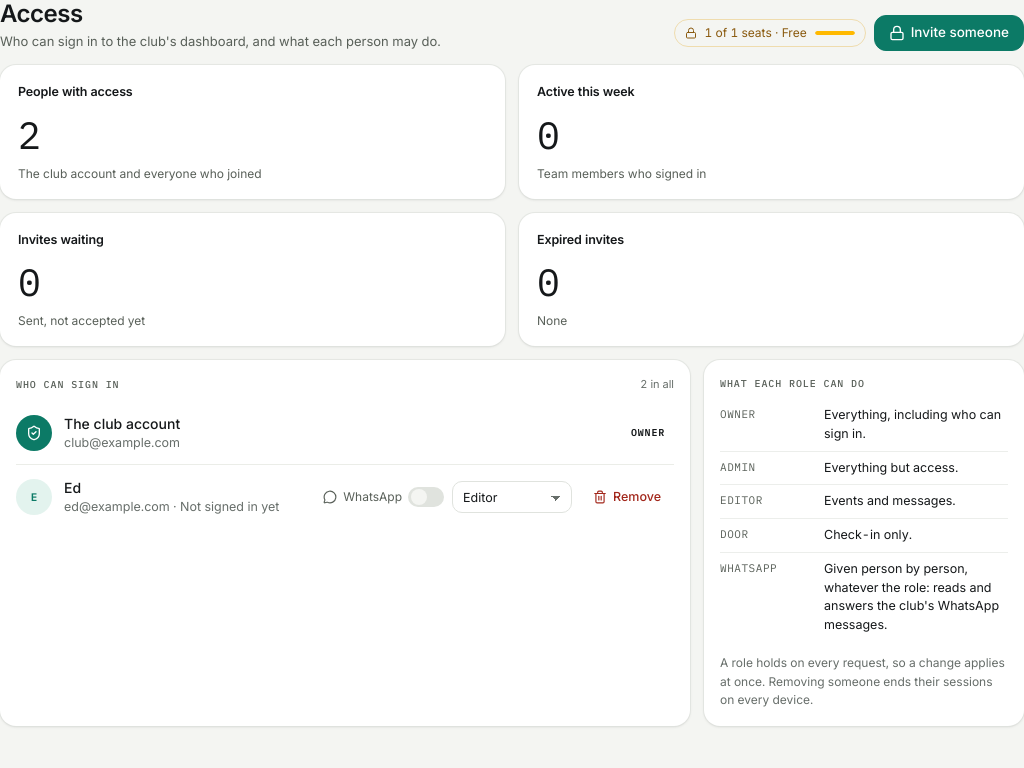
Test: limit meters › count the team's seats, lock the invite at the cap, and lock roles the plan lacks
Expected: the text "1 of 1 seats · Free" is shown, [704,24,807,42]
Click the button "Invite someone".
click(949, 33)  # box [874,15,1023,51]
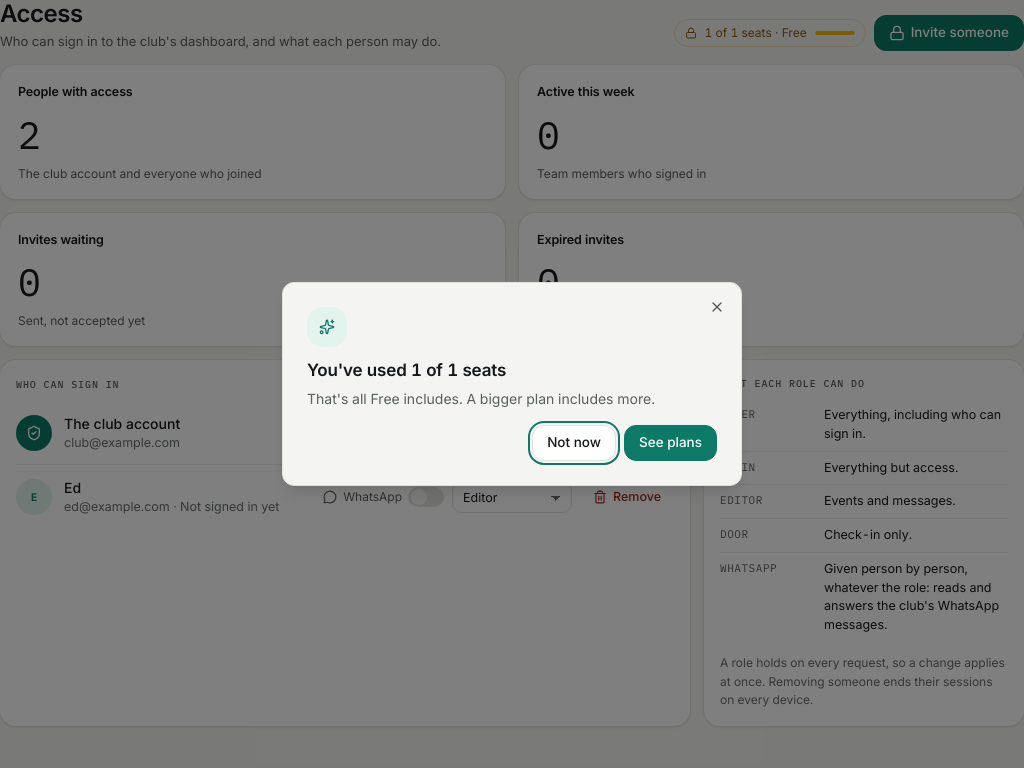
Expected: the heading "You've used 1 of 1 seats" is shown, [307,360,506,380]
Click the button "Not now".
click(574, 443)  # box [532,425,616,461]
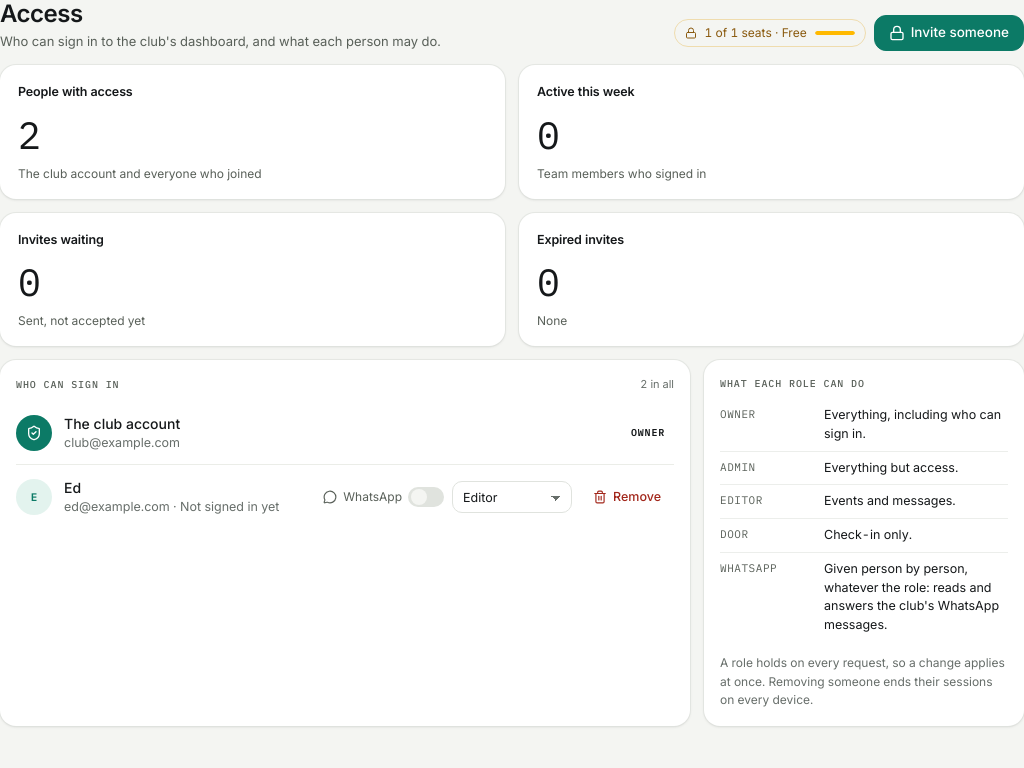
Expected: the dialog is gone
Select "Admin · Pro" in the dropdown named "Role for Ed" at (512, 497), box [452,481,572,513]
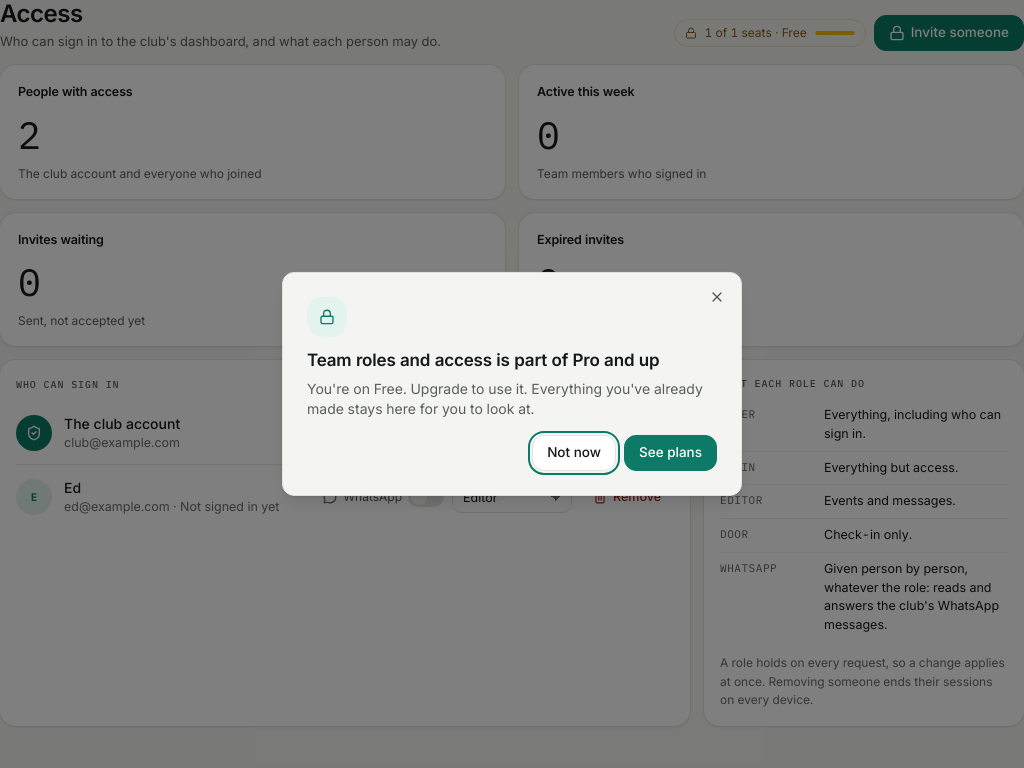
Expected: the heading "Team roles and access is part of Pro and up" is shown, [307,349,717,371]
